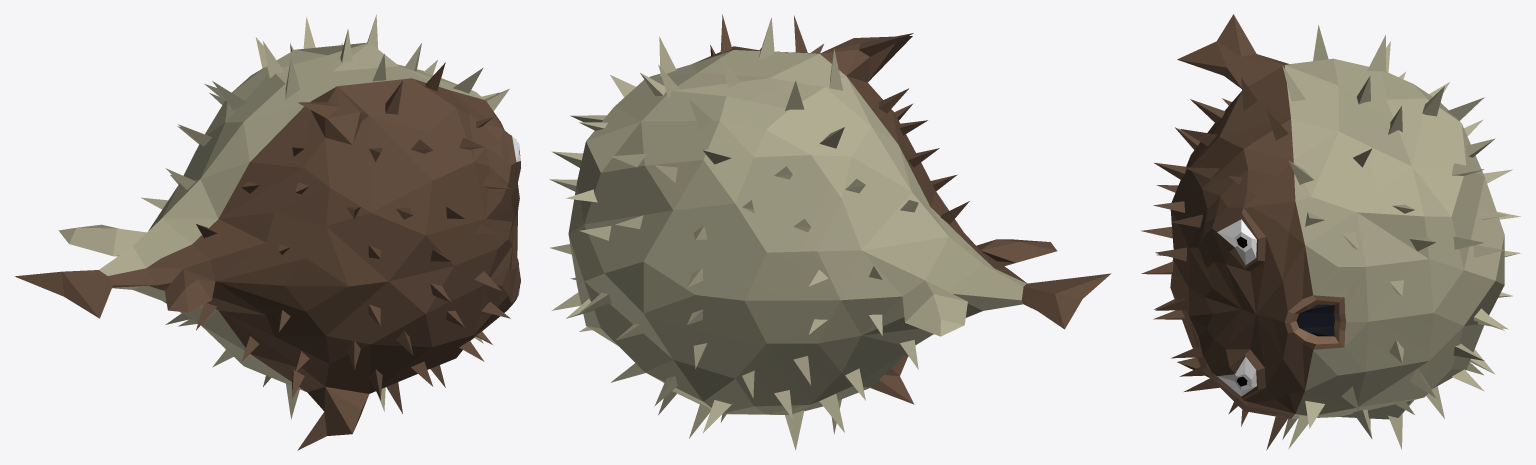
The model's file is Pufferfish.glb.
3 views of the same model, side by side, from view 1: azimuth 30°, elevation 25°; view 2: azimuth 150°, elevation 25°; view 3: azimuth 270°, elevation 25° (orthographic). The views are drawn at different scales.
Visible parts, largest first — view 1: Pufferfish; view 2: Pufferfish; view 3: Pufferfish.
Part boxes in pixels (x1,y1,x2,y2): Pufferfish: [14, 14, 520, 450]; Pufferfish: [549, 14, 1111, 450]; Pufferfish: [1141, 14, 1520, 450].
Size of the model in its own units: 0.8671 by 0.6328 by 0.5764.
Materials: 1 (1 with a texture image).
